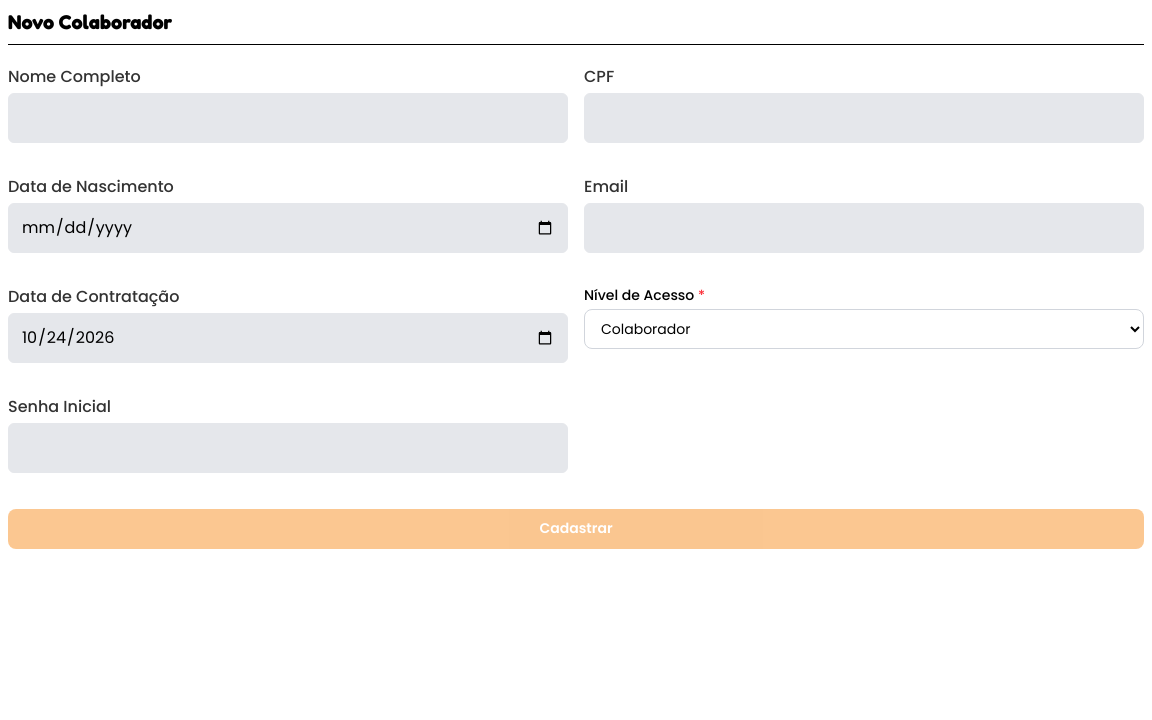
falha de escrita que não é um Error: cada formulário usa o seu texto de reserva › CreateCoord
The image size is (1152, 720).
Type "Ana Maria Souza" into the field labelled "Nome Completo" at (288, 118), box [8,93,568,143]
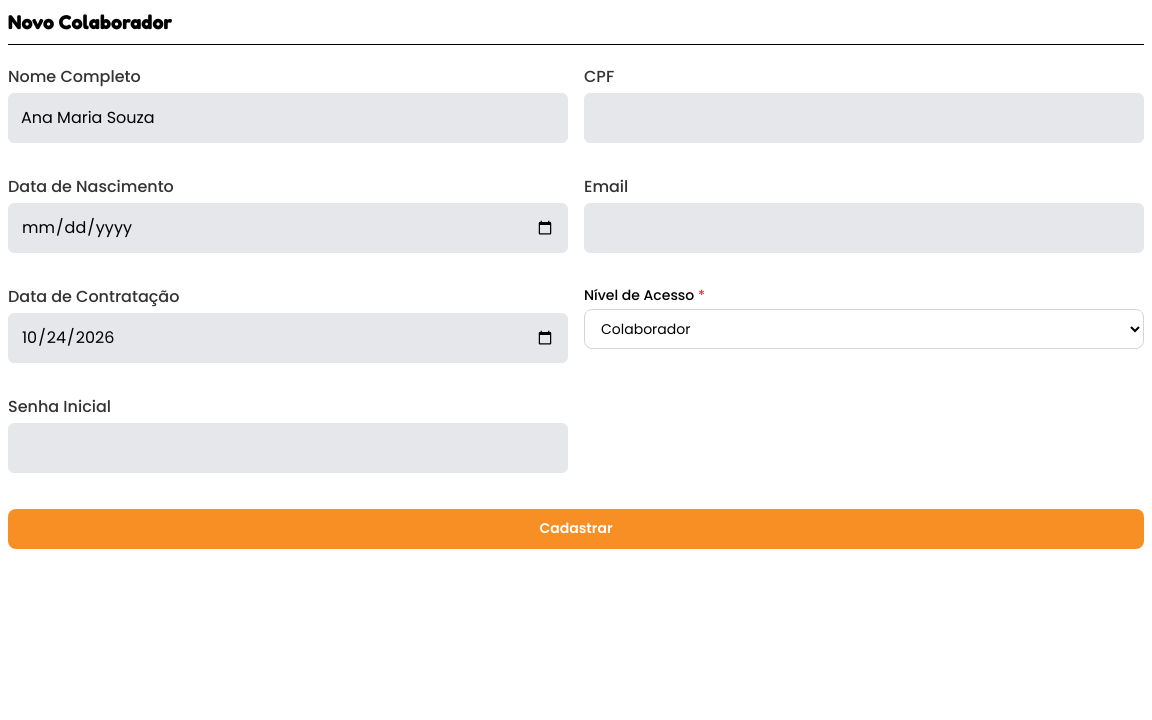
Type "123.456.789-01" into the field labelled "CPF" at (864, 118), box [584,93,1144,143]
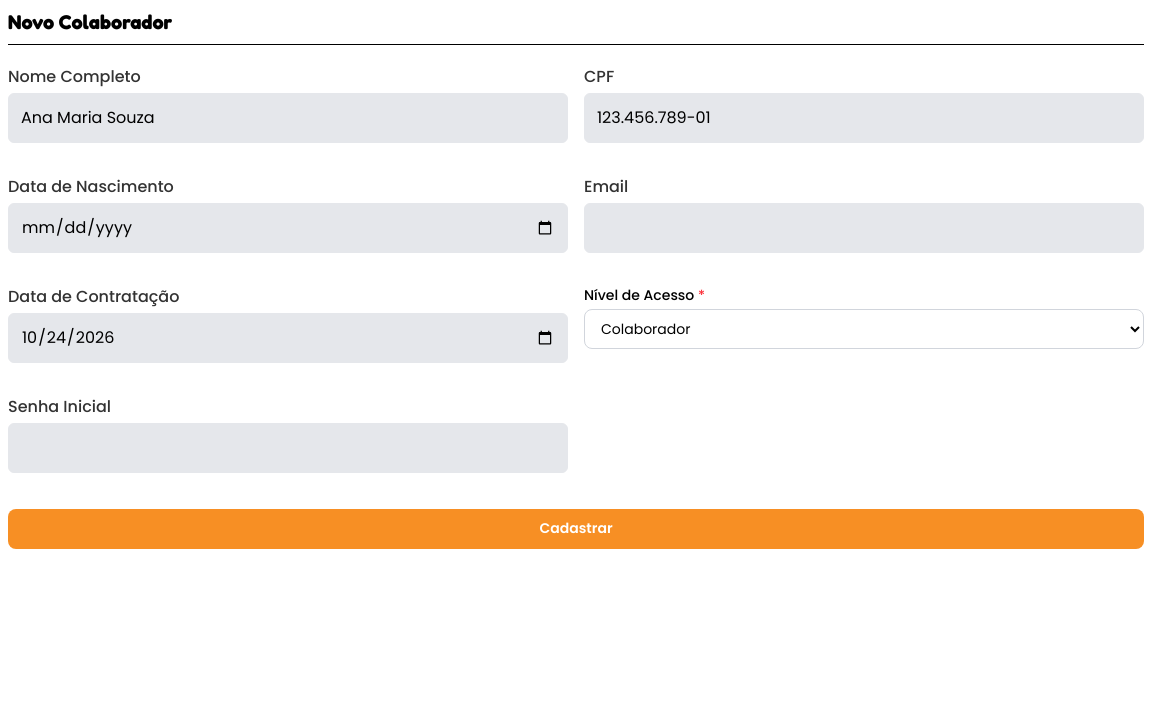
Type "1990-01-31" into the date field labelled "Data de Nascimento" at (288, 228), box [8,203,568,253]
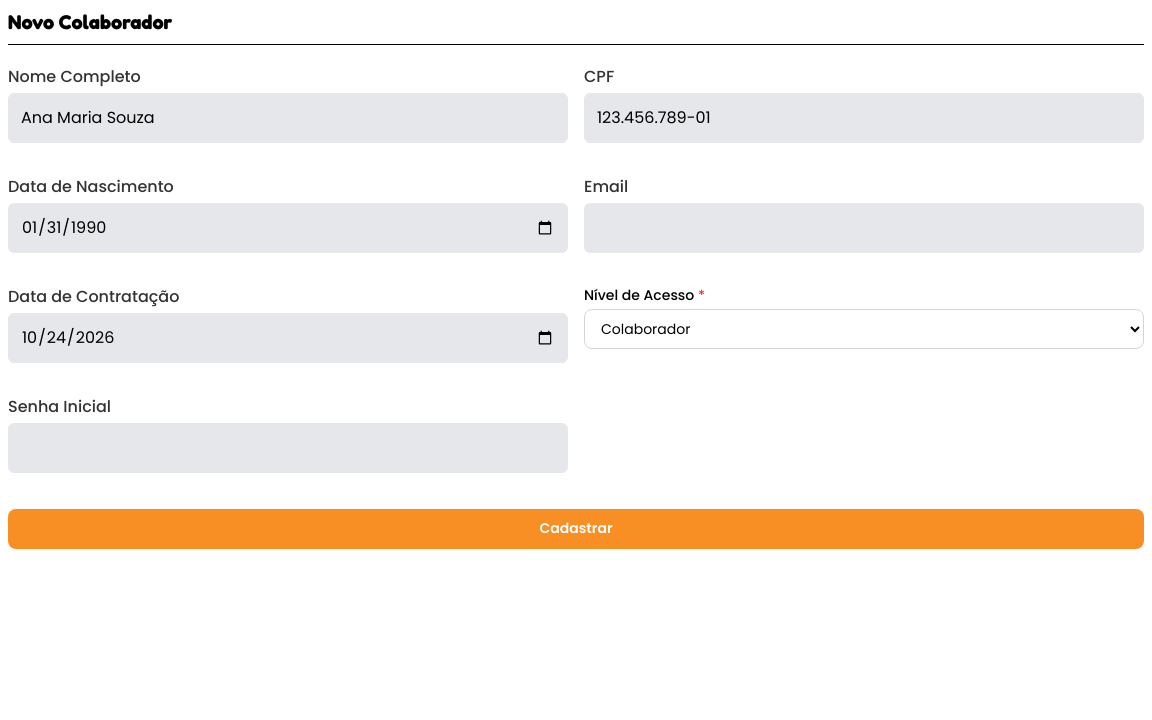
Type "ana@raizdobem.org" into the field labelled "Email" at (864, 228), box [584,203,1144,253]
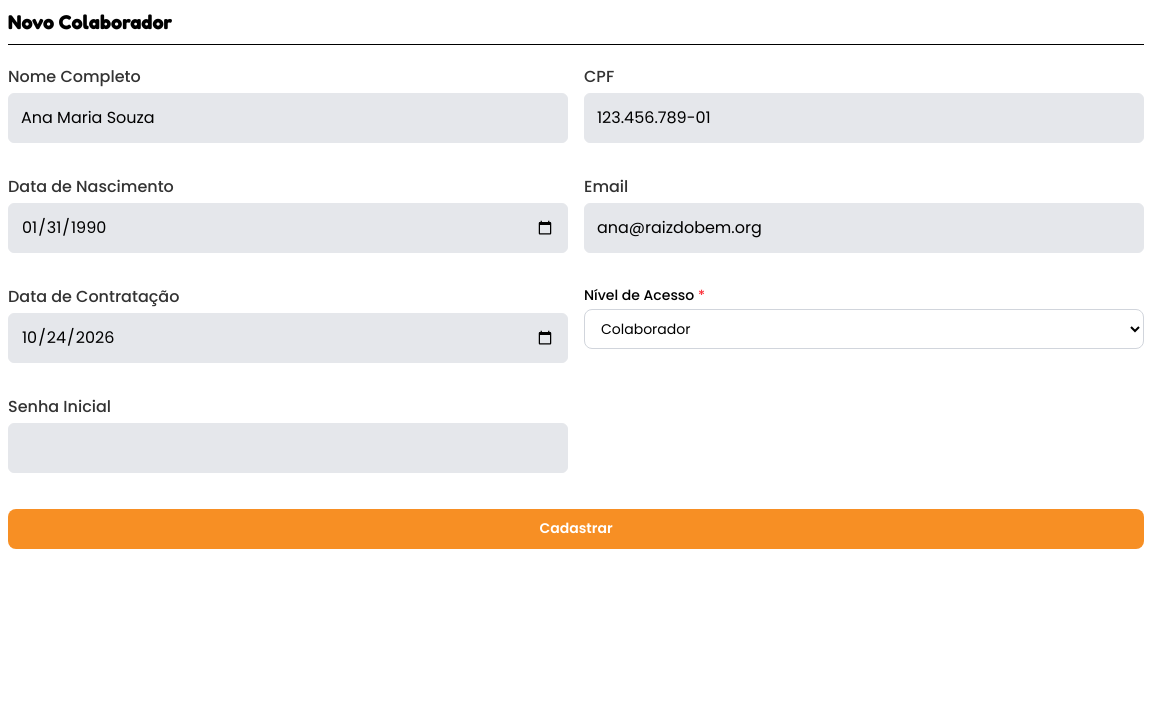
Type "Senha@1234" into the password field labelled "Senha Inicial" at (288, 448), box [8,423,568,473]
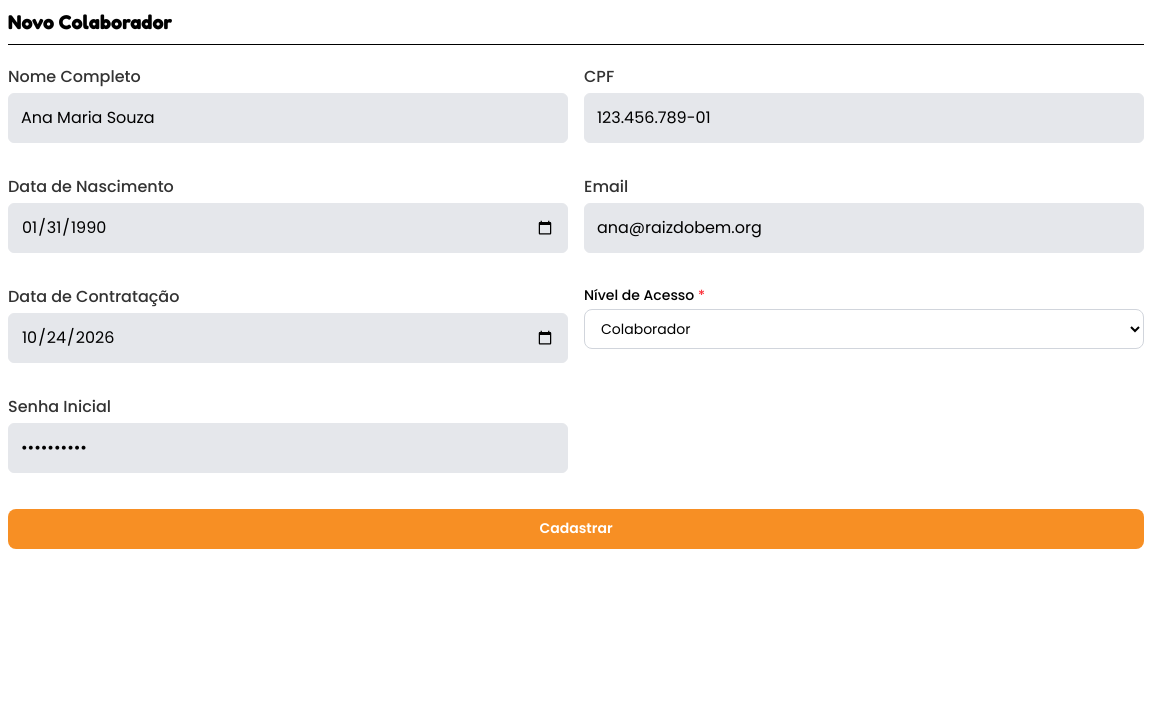
Click the button "Cadastrar" at (576, 529), box [8,509,1144,549]
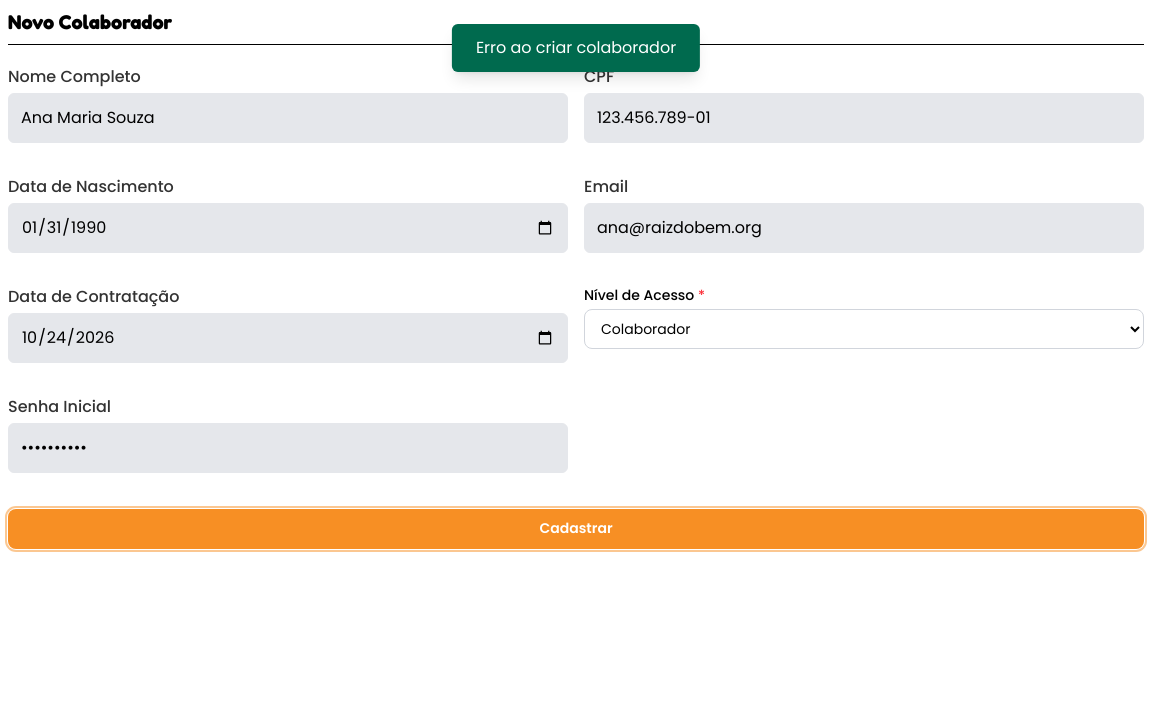
expect the text "Erro ao criar colaborador" is shown: met, box [452,24,700,72]
